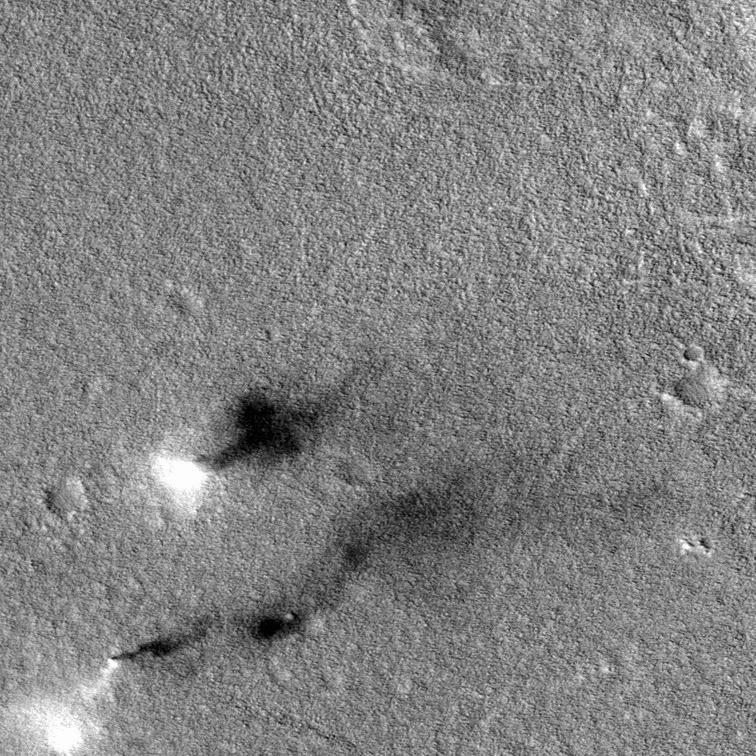dust_devil: (1, 465, 481, 756), (144, 381, 328, 519)
